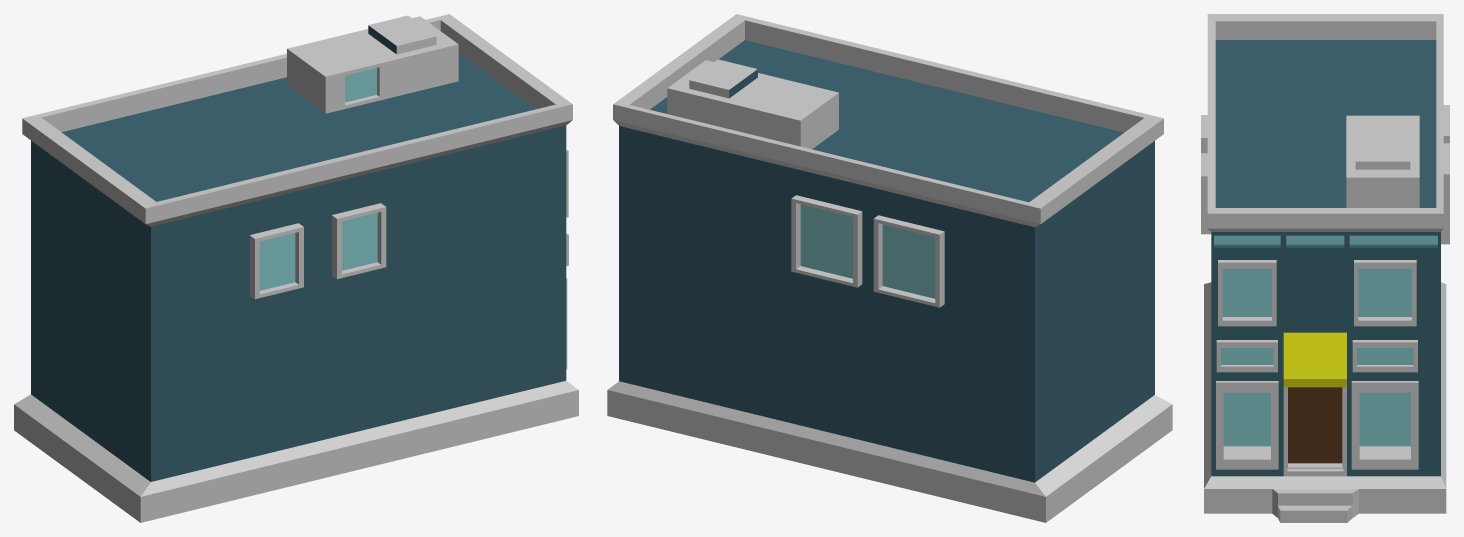
File: building_blue.fbx
The picture shows the model from 3 angles, left to right: view 1: azimuth 30°, elevation 25°; view 2: azimuth 150°, elevation 25°; view 3: azimuth 270°, elevation 25°; orthographic projection. The views are drawn at different scales.
Visible parts, largest first — view 1: Cube; view 2: Cube; view 3: Cube.
Part boxes in pixels (x1,y1,x2,y2): Cube: (14, 14, 578, 522); Cube: (607, 14, 1172, 522); Cube: (1201, 14, 1449, 522).
Bounding box in the file's own units: 1543 × 1086 × 758.
